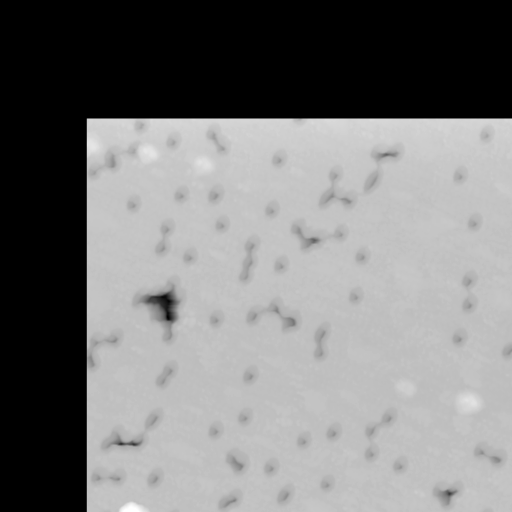Hole: (126, 271, 187, 346), (357, 404, 412, 474), (98, 406, 162, 458), (239, 294, 302, 334), (309, 165, 358, 213), (286, 217, 351, 250), (86, 320, 119, 366), (468, 434, 506, 470), (363, 137, 407, 165), (426, 476, 464, 508), (151, 355, 180, 391), (239, 237, 258, 286), (89, 464, 129, 486), (311, 318, 331, 361), (101, 142, 127, 173), (222, 447, 249, 474), (206, 123, 227, 154), (321, 415, 343, 443), (498, 315, 511, 362), (238, 361, 260, 387), (154, 219, 169, 256), (448, 325, 472, 348), (362, 168, 385, 192), (351, 243, 376, 263), (274, 482, 294, 507), (259, 198, 282, 219), (346, 281, 366, 305), (267, 146, 289, 167), (219, 488, 239, 511), (457, 270, 481, 289), (448, 164, 469, 185), (288, 428, 310, 448), (318, 474, 338, 495), (460, 292, 479, 314), (273, 251, 292, 273), (164, 131, 183, 153), (262, 455, 281, 477), (204, 419, 224, 439), (463, 210, 482, 230), (122, 194, 141, 214), (86, 162, 105, 182), (478, 124, 495, 145), (215, 214, 231, 236), (238, 406, 255, 426), (147, 467, 164, 487), (180, 245, 196, 264), (207, 186, 224, 203), (131, 118, 153, 131), (206, 308, 221, 327), (174, 186, 186, 203), (475, 502, 495, 511), (93, 506, 112, 511), (161, 509, 180, 511), (505, 509, 511, 511)
Particle: (447, 381, 490, 418), (391, 373, 421, 400), (138, 141, 162, 166), (192, 152, 215, 177), (115, 497, 155, 511), (86, 130, 99, 154), (510, 376, 511, 410)
